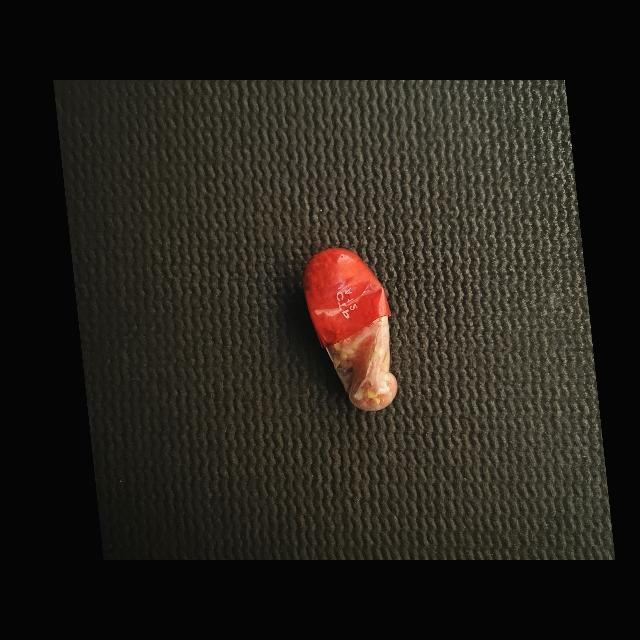Defective Capsule: (302, 248, 397, 411)
